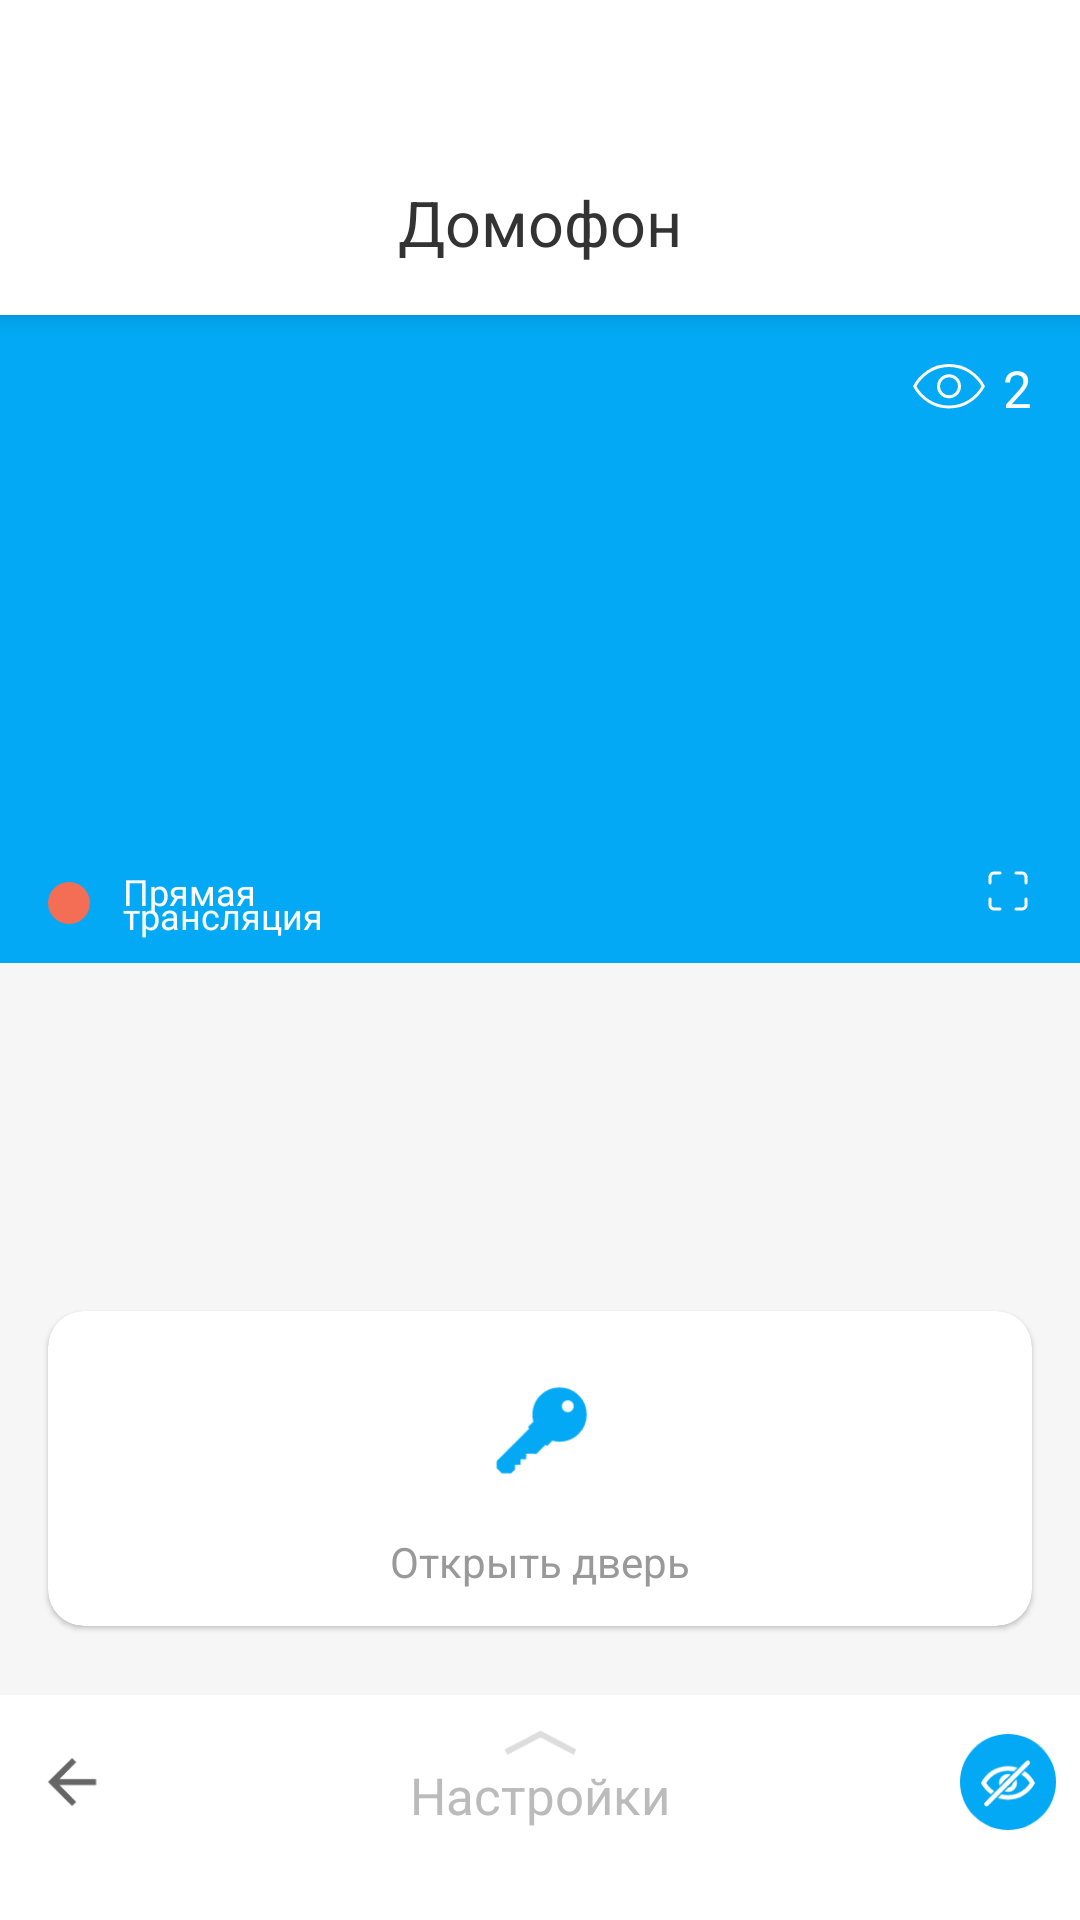

Screen size 1080x1920. Icon name, then its box in pixels as (x1, y1, x2, y2):
back: (48, 1758, 97, 1806)
eye: (913, 364, 985, 409)
hide: (960, 1734, 1056, 1830)
key: (496, 1387, 587, 1474)
maximize: (988, 871, 1028, 911)
swipe top: (505, 1731, 576, 1754)
